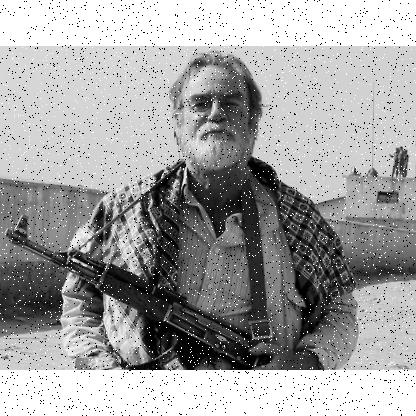gun: (7, 214, 267, 367)
